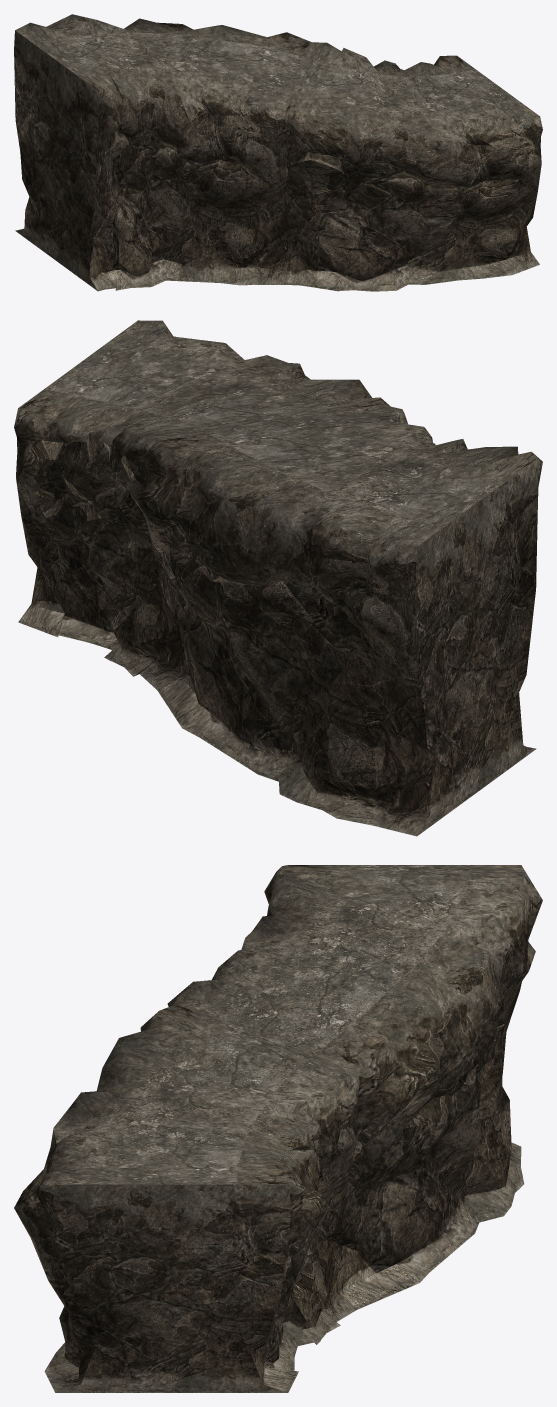
The model's file is SM_Env_Fire_Cliffs_CliffWall_03b.FBX.
3 views of the same model, one above another, from view 1: azimuth 30°, elevation 25°; view 2: azimuth 150°, elevation 25°; view 3: azimuth 270°, elevation 25° (orthographic). The views are drawn at different scales.
Parts seen in each view (by area): view 1: SM_Env_Fire_Cliffs_CliffWall_03b; view 2: SM_Env_Fire_Cliffs_CliffWall_03b; view 3: SM_Env_Fire_Cliffs_CliffWall_03b.
Part boxes in pixels (<box>): SM_Env_Fire_Cliffs_CliffWall_03b: <box>14,14,542,291</box>; SM_Env_Fire_Cliffs_CliffWall_03b: <box>14,320,542,836</box>; SM_Env_Fire_Cliffs_CliffWall_03b: <box>14,865,542,1392</box>.
Bounding box in the file's own units: 1920 × 1743 × 1035.
